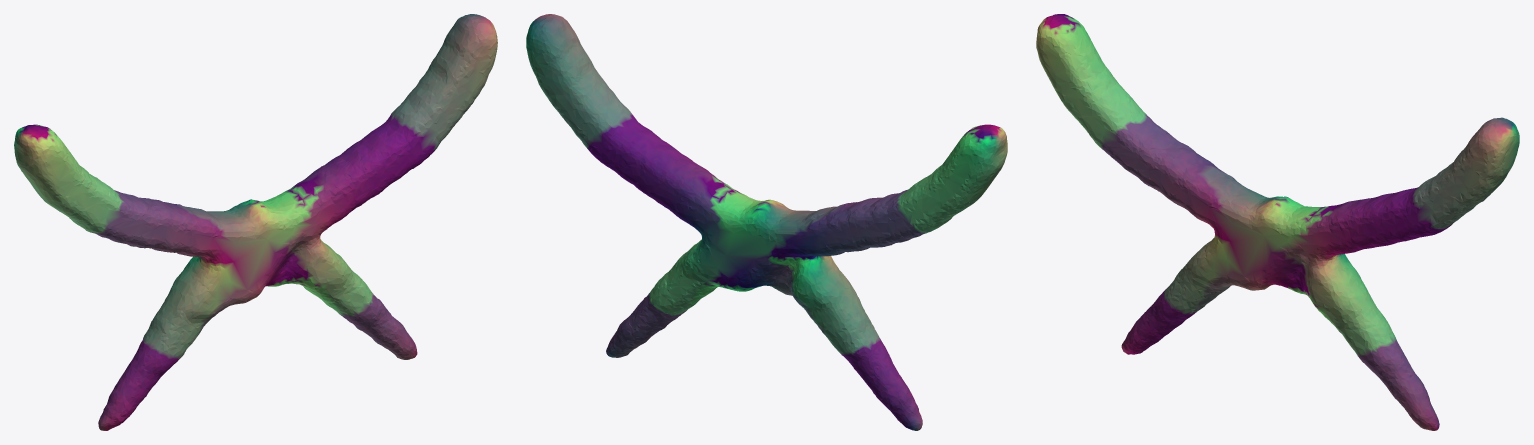
File: pliers-20.off.obj
3 views of the same model, side by side, from view 1: azimuth 30°, elevation 25°; view 2: azimuth 150°, elevation 25°; view 3: azimuth 330°, elevation 25° (orthographic).
Size of the model in its own units: 1.58 by 1.04 by 0.1569.
